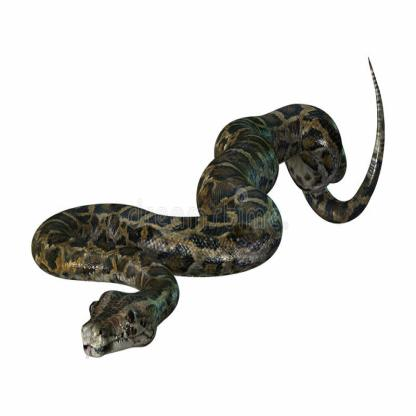Snake: (30, 108, 388, 360), (78, 290, 174, 361)
